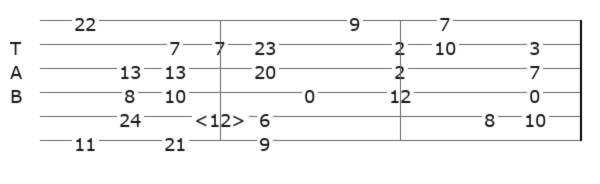0: (304, 84, 319, 101), (529, 84, 544, 101)
10: (164, 84, 190, 101), (434, 36, 460, 53), (524, 108, 550, 125)
11: (74, 132, 100, 149)
12: (389, 84, 415, 101)
13: (119, 60, 145, 77), (164, 60, 190, 77)
2: (394, 36, 409, 53), (394, 60, 409, 77)
20: (254, 60, 280, 77)
21: (164, 132, 190, 149)
22: (74, 12, 100, 29)
23: (254, 36, 280, 53)
24: (119, 108, 145, 125)
3: (529, 36, 544, 53)
6: (259, 108, 274, 125)
7: (169, 36, 184, 53), (214, 36, 229, 53), (439, 12, 454, 29), (529, 60, 544, 77)
8: (124, 84, 139, 101), (484, 108, 499, 125)
9: (259, 132, 274, 149), (349, 12, 364, 29)
harmonic: (194, 108, 250, 125)
